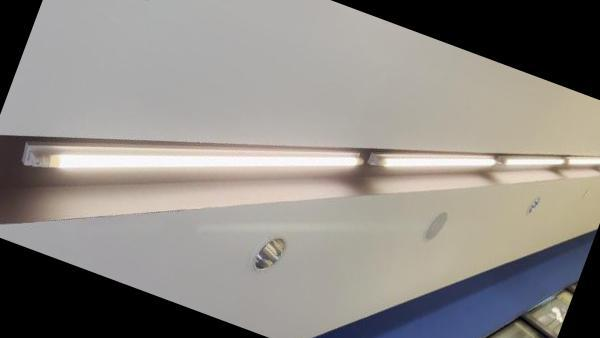light_on: (5, 37, 368, 284), (371, 114, 504, 211), (492, 133, 571, 191), (568, 144, 600, 178)
